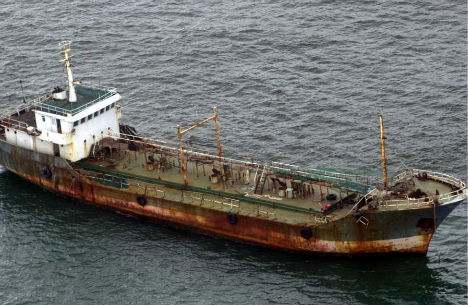rust: (207, 210, 263, 238), (311, 240, 392, 254), (71, 181, 99, 199)
